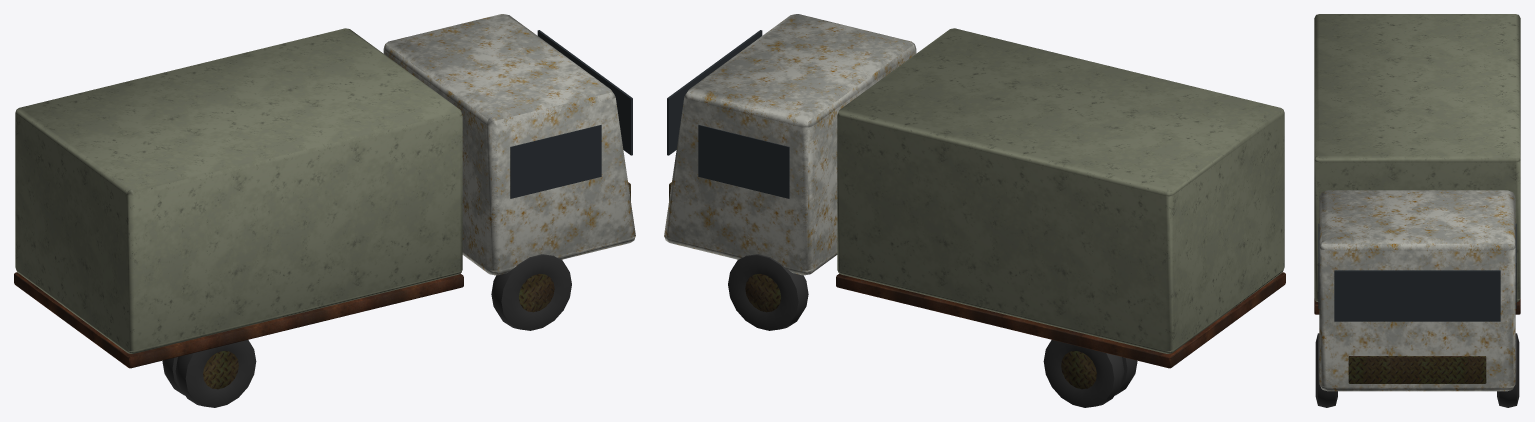
Rendered from veh_van_truck.gltf.
The picture shows the model from 3 angles, left to right: view 1: azimuth 30°, elevation 25°; view 2: azimuth 150°, elevation 25°; view 3: azimuth 270°, elevation 25°; orthographic projection. The views are drawn at different scales.
Parts seen in each view (by area): view 1: box.004, box, box.003, box.005, torus, torus.002, box.001, cyl.002, cyl; view 2: box.004, box, box.003, box.006, torus.001, torus.004, box.001, cyl.004, cyl.001; view 3: box.004, box, box.001, box.002, torus, torus.001.
Part boxes in pixels (x1,y1,x2,y2): box.004: (15, 28, 462, 353); box: (383, 14, 635, 275); box.003: (14, 272, 463, 368); box.005: (510, 125, 601, 198); torus: (491, 254, 571, 330); torus.002: (175, 340, 256, 407); box.001: (537, 30, 632, 155); cyl.002: (203, 351, 238, 389); cyl: (519, 274, 554, 312); box.004: (837, 28, 1284, 353); box: (664, 14, 916, 275); box.003: (836, 272, 1285, 368); box.006: (698, 125, 789, 198); torus.001: (728, 254, 808, 330); torus.004: (1043, 340, 1124, 407); box.001: (667, 30, 762, 155); cyl.004: (1061, 351, 1096, 389); cyl.001: (745, 274, 780, 312); box.004: (1314, 14, 1520, 301); box: (1319, 190, 1515, 391); box.001: (1334, 270, 1500, 321); box.002: (1348, 356, 1486, 383); torus: (1315, 333, 1337, 407); torus.001: (1497, 333, 1519, 407).
Bounding box in the file's own units: 5.29 × 2.33 × 2.04.
6 materials, 4 textured.
